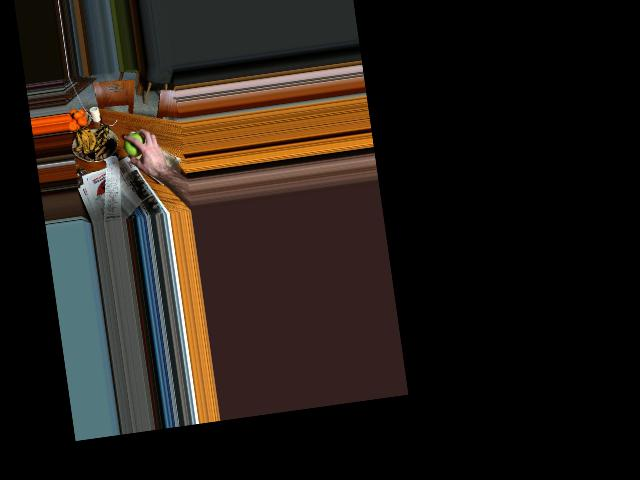apple: (123, 131, 147, 158)
